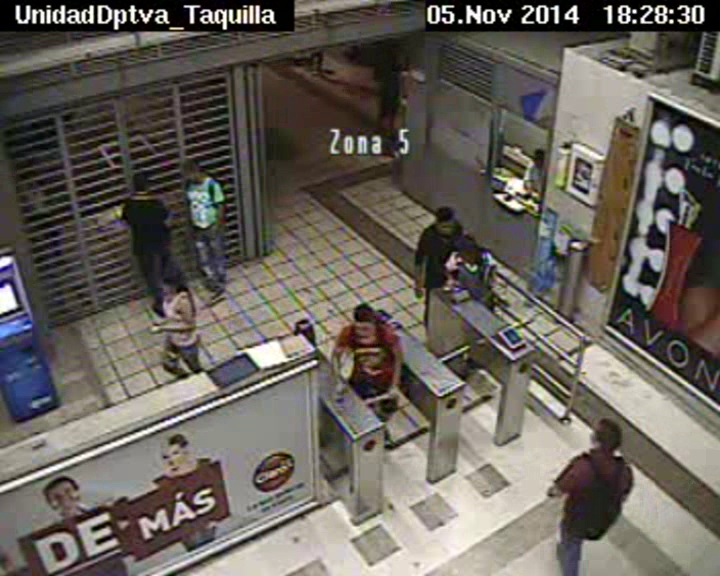person: (588, 417, 623, 456), (350, 303, 381, 337), (433, 205, 460, 234), (455, 235, 482, 264), (158, 268, 184, 295), (179, 158, 205, 182), (129, 171, 150, 195), (384, 45, 400, 60)
